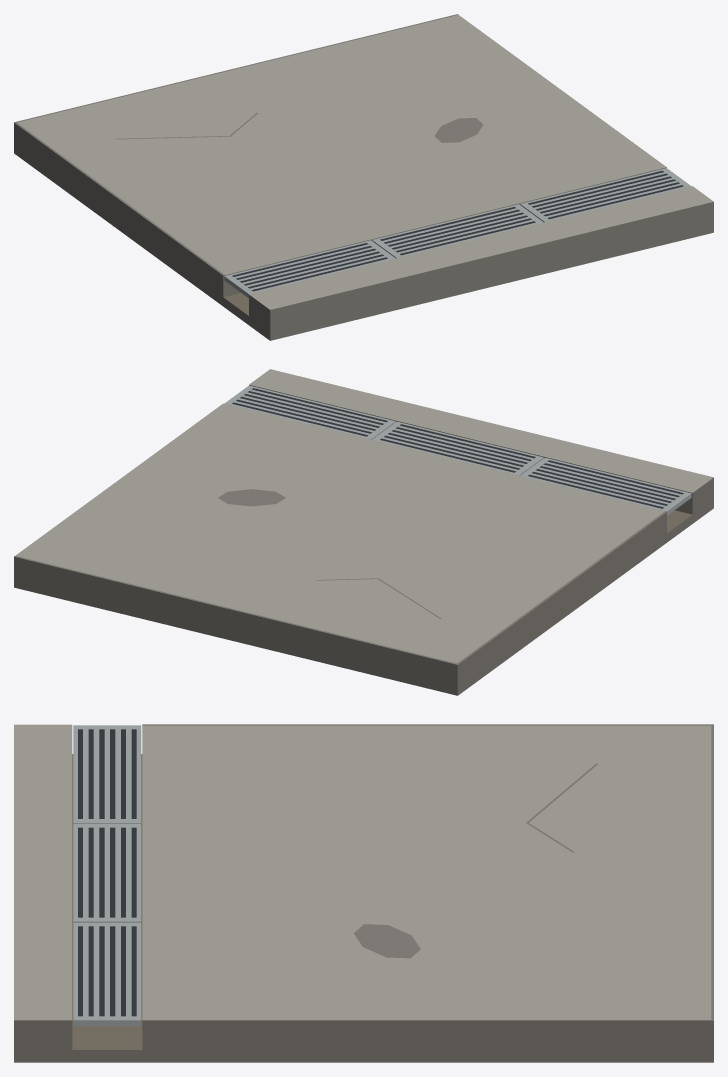
File: SC_Gnd_Alley_Drain_3x3.gltf
The picture shows the model from 3 angles, top to bottom: view 1: azimuth 30°, elevation 25°; view 2: azimuth 150°, elevation 25°; view 3: azimuth 270°, elevation 25°; orthographic projection. The views are drawn at different scales.
Visible parts, largest first — view 1: SC_Gnd_Alley_Drain_3x3; view 2: SC_Gnd_Alley_Drain_3x3; view 3: SC_Gnd_Alley_Drain_3x3.
Boxes of the visible parts, <box> form: SC_Gnd_Alley_Drain_3x3: <box>14,14,713,340</box>; SC_Gnd_Alley_Drain_3x3: <box>14,369,713,695</box>; SC_Gnd_Alley_Drain_3x3: <box>14,724,713,1062</box>.
Size of the model in its own units: 3 by 0.201 by 3.
Materials: 1 (1 with a texture image).
